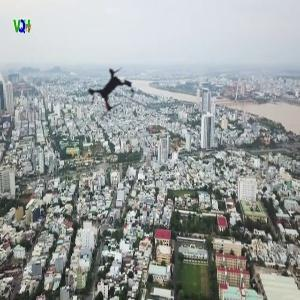drone: (70, 51, 156, 137)
